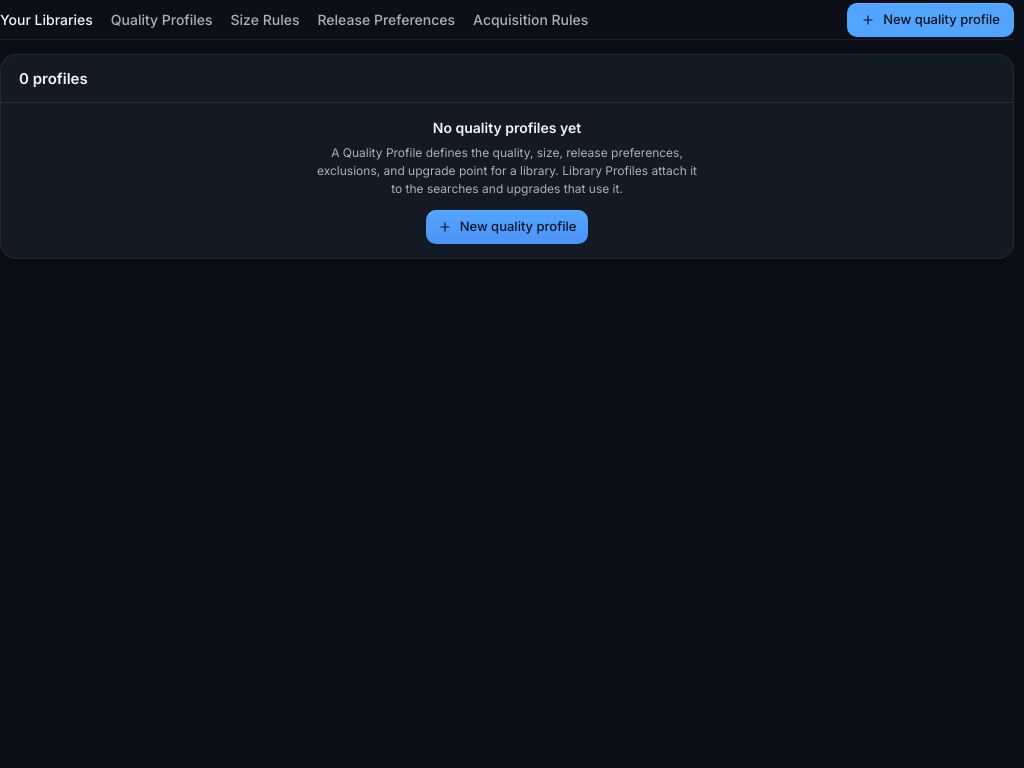
Scenario: quality profile plain choices (#938) › opens the drawer with the plain cutoff, upgrade-gain, never-grab-bad and language choices, each with its own accessible name
Click the button "New quality profile" in the row of "Acquisition Rules" at [931, 20], box x1=847 y1=2 x2=1014 y2=36
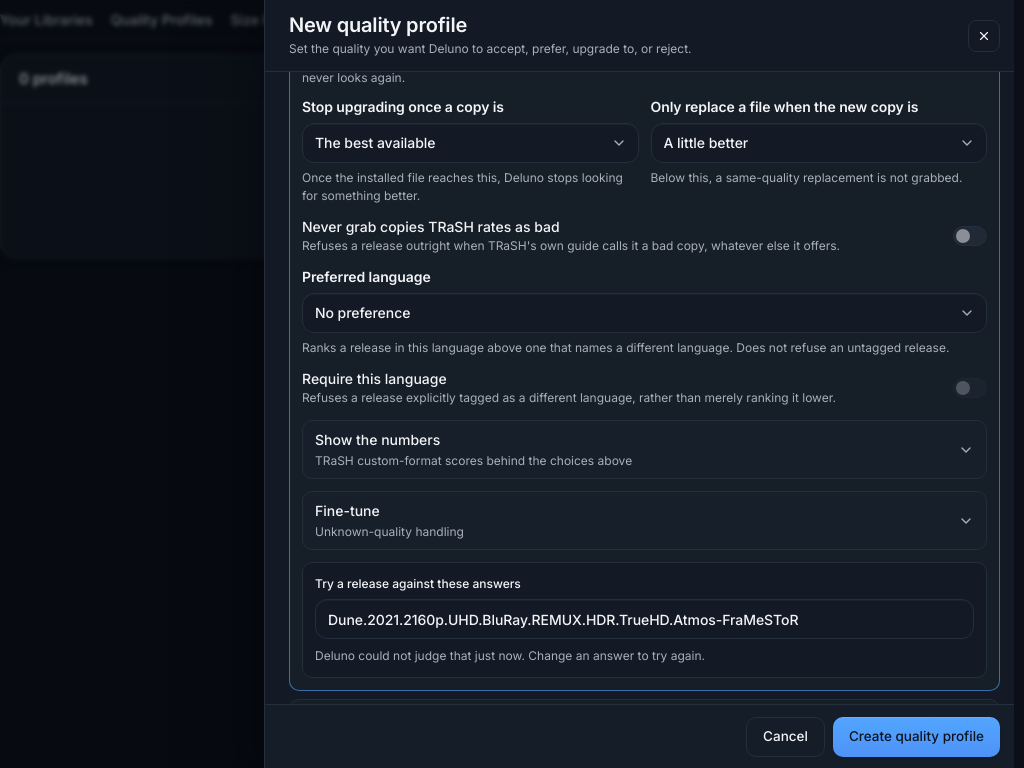
Expected: the dialog is shown
Expected: the dropdown labelled "Stop upgrading once a copy is" is shown, x1=302 y1=123 x2=638 y2=163
Expected: the dropdown labelled "Only replace a file when the new copy is" is shown, x1=650 y1=123 x2=987 y2=163
